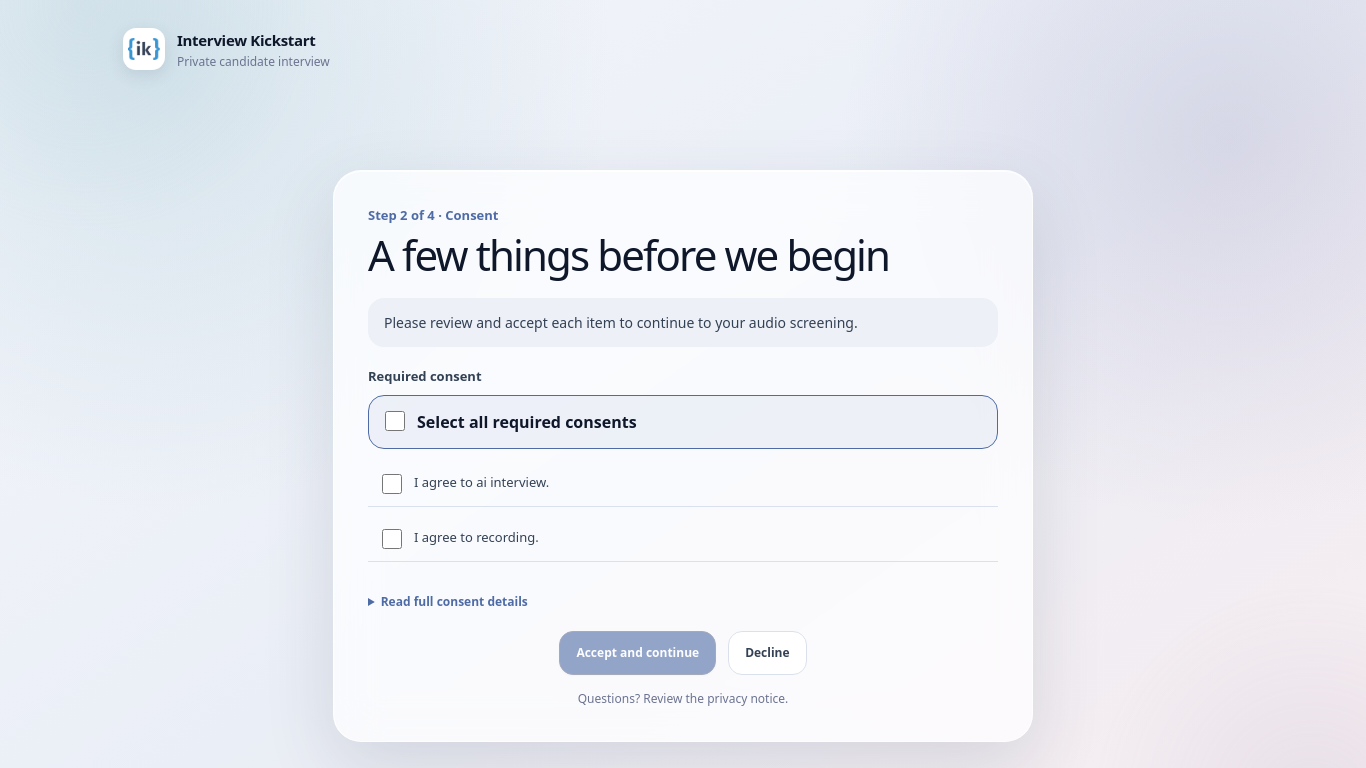
CandidateJoinPage › accept button stays disabled until ALL required boxes are checked
Check: the button "Accept and continue" is disabled, box [559,631,716,675]
Click the checkbox labelled "ai interview".
click(392, 484)  # box [382,474,402,494]
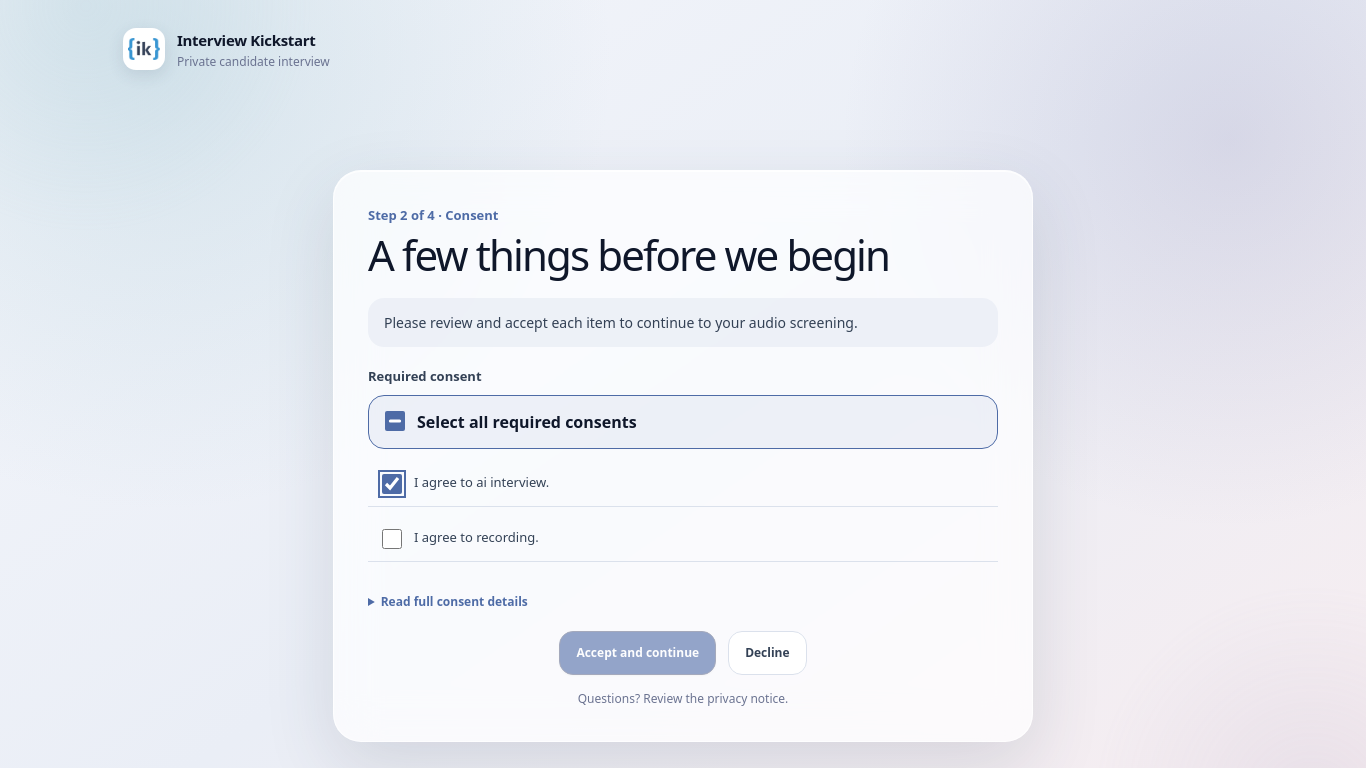
Check: the button "Accept and continue" is disabled, box [559,631,716,675]
Click the checkbox labelled "recording".
click(392, 539)  # box [382,529,402,549]
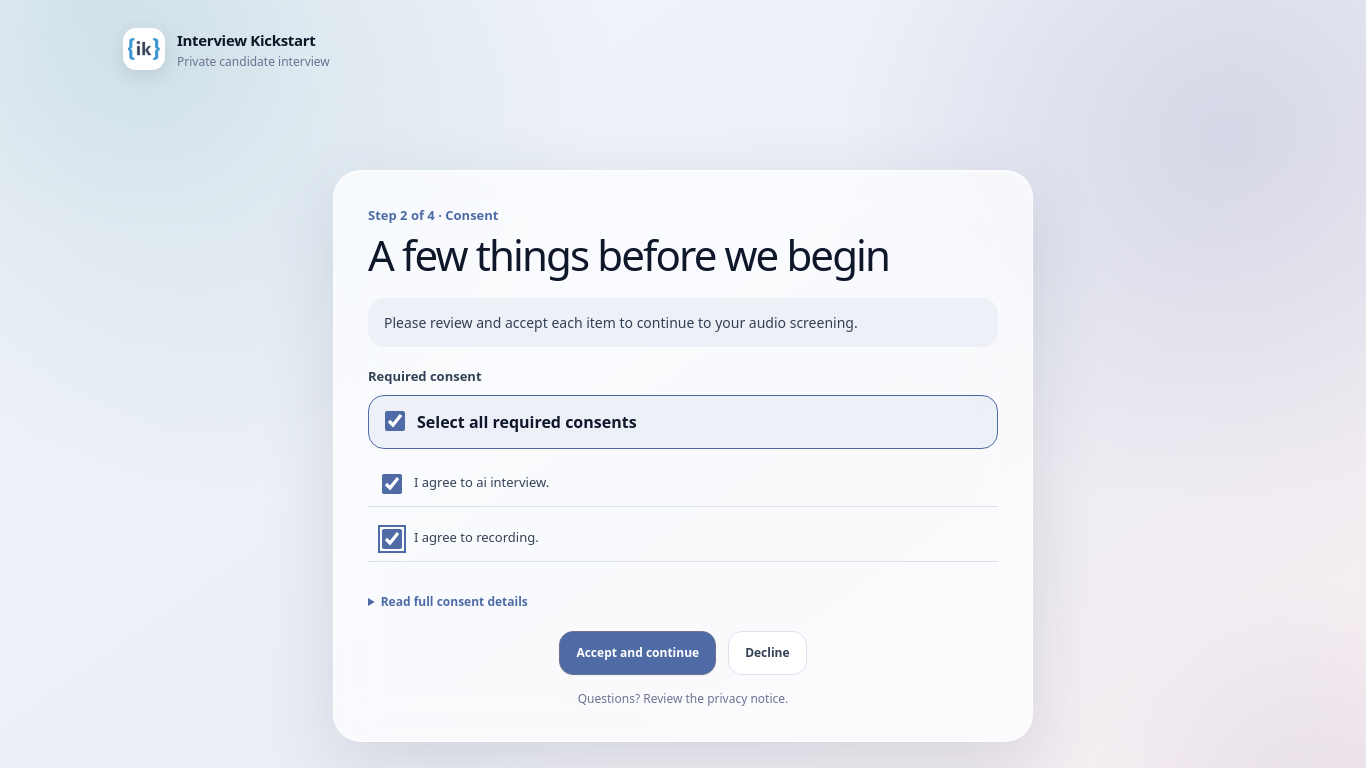
Check: the button "Accept and continue" is enabled, box [559,631,716,675]
